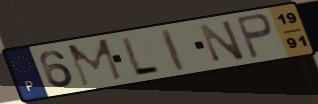6: (38, 49, 76, 89)
I: (157, 27, 188, 73)
L: (119, 35, 164, 76)
M: (65, 37, 125, 89)
N: (197, 18, 248, 64)
P: (233, 12, 275, 61)
